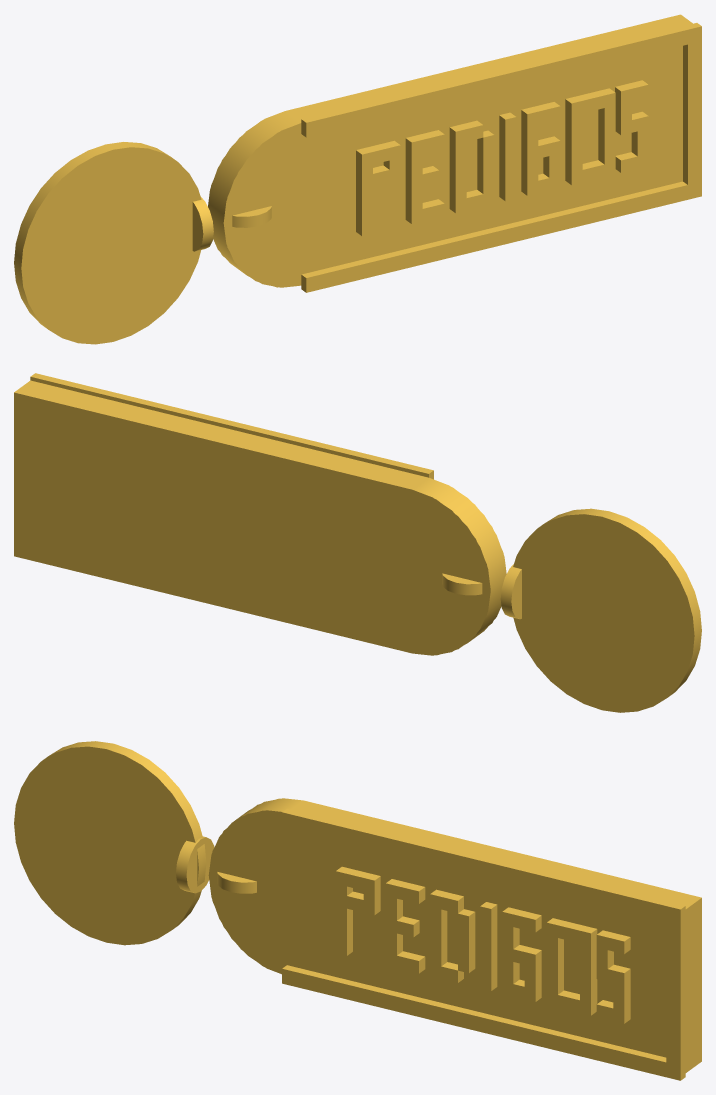
The model's file is llavero_pedigochos.glb.
3 renders of one model, top to bottom at view 1: azimuth 30°, elevation 25°; view 2: azimuth 150°, elevation 25°; view 3: azimuth 330°, elevation 25°, orthographic.
Parts seen in each view (by area): view 1: LlaveroPersonalizadoPediGochos; view 2: LlaveroPersonalizadoPediGochos; view 3: LlaveroPersonalizadoPediGochos.
Boxes of the visible parts, x1=… form: LlaveroPersonalizadoPediGochos: x1=14, y1=14, x2=701, y2=344; LlaveroPersonalizadoPediGochos: x1=14, y1=373, x2=701, y2=712; LlaveroPersonalizadoPediGochos: x1=14, y1=741, x2=701, y2=1080.
Bounding box in the file's own units: 9.5 × 2.6 × 0.7.
